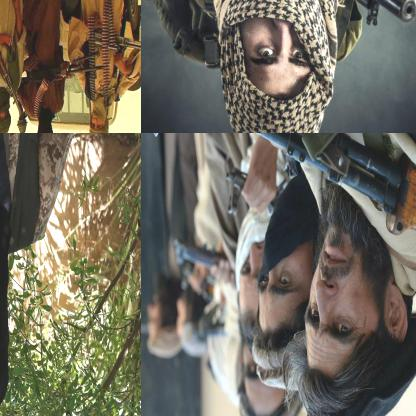rifle: (143, 133, 415, 327), (84, 15, 140, 67), (0, 0, 23, 109), (23, 56, 105, 84)
